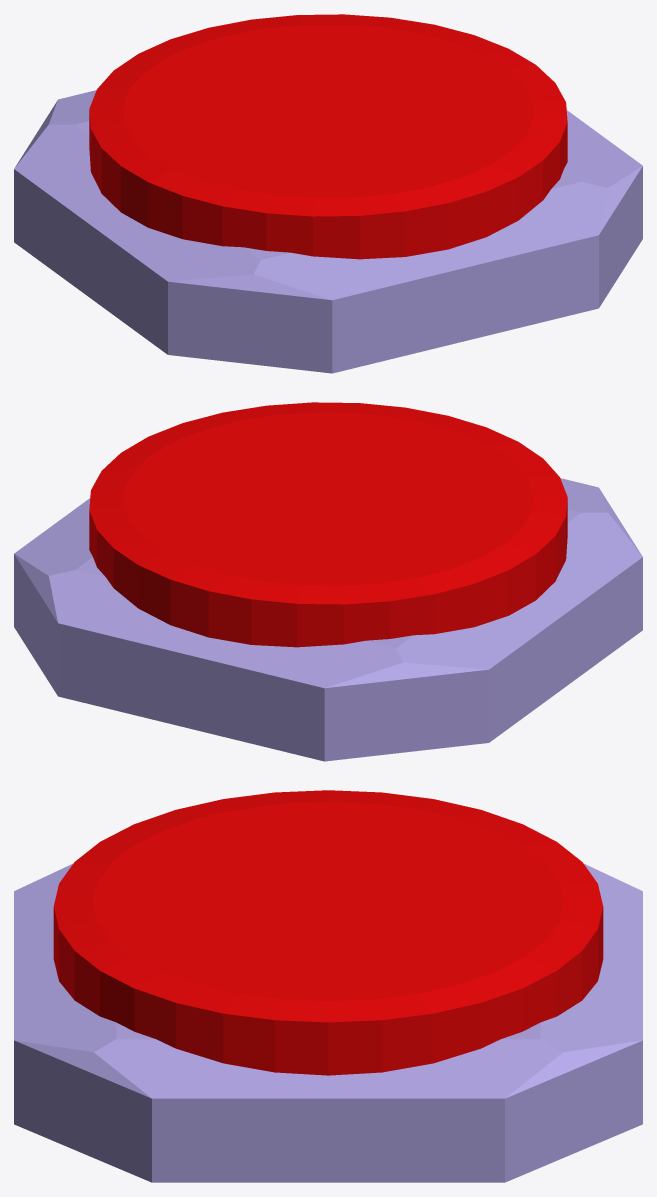
Rendered from button.fbx.
3 views of the same model, one above another, from view 1: azimuth 30°, elevation 25°; view 2: azimuth 150°, elevation 25°; view 3: azimuth 270°, elevation 25° (orthographic). The views are drawn at different scales.
Parts seen in each view (by area): view 1: Cylinder, Cube; view 2: Cylinder, Cube; view 3: Cylinder, Cube.
Boxes of the visible parts, x1,y1,x2,y2 form: Cylinder: (89,14,567,259); Cube: (14,90,642,373); Cylinder: (89,402,567,647); Cube: (14,478,642,761); Cylinder: (53,790,603,1075); Cube: (14,863,642,1182).
Size of the model in its own units: 760 by 198 by 760.
